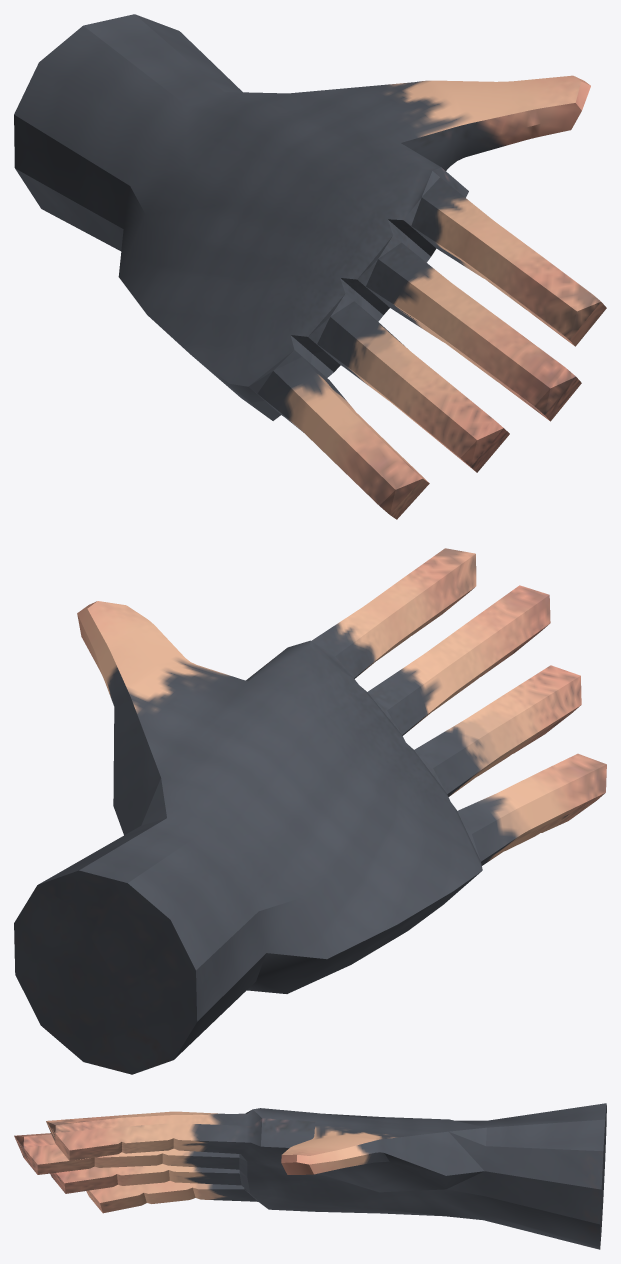
Rendered from mano.fbx.
The picture shows the model from 3 angles, top to bottom: view 1: azimuth 30°, elevation 25°; view 2: azimuth 150°, elevation 25°; view 3: azimuth 270°, elevation 25°; orthographic projection. The views are drawn at different scales.
Visible parts, largest first — view 1: hand; view 2: hand; view 3: hand.
Boxes of the visible parts, x1,y1,x2,y2 form: hand: [14, 14, 606, 519]; hand: [14, 548, 606, 1074]; hand: [14, 1103, 606, 1249].
Size of the model in its own units: 0.1805 by 0.1111 by 0.3608.
1 material, 1 textured.
